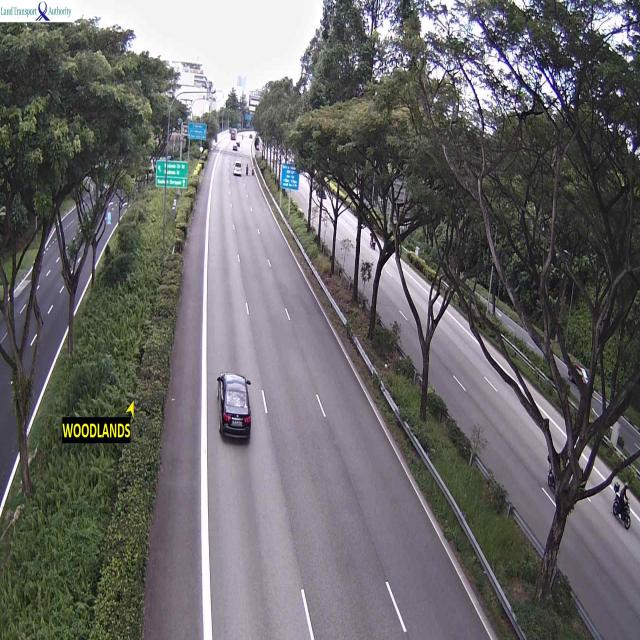vehicles: (215, 368, 251, 436), (235, 158, 245, 184), (230, 130, 237, 138)
